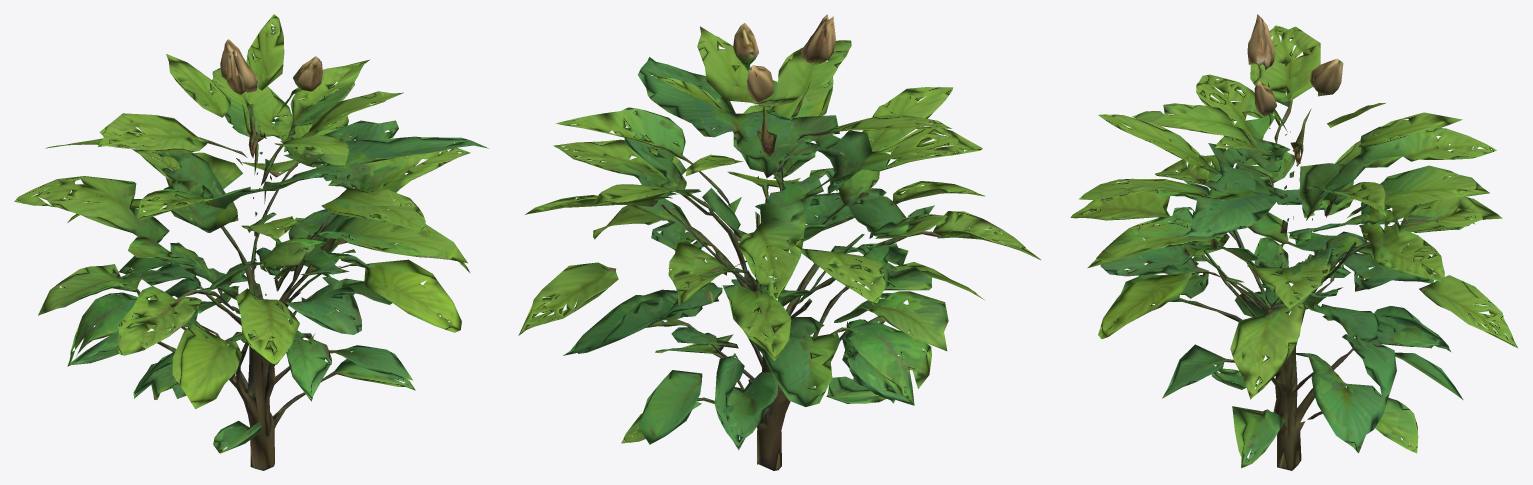
File: An_animated_yoruba_pl_0527073105_texture.glb
3 views of the same model, side by side, from view 1: azimuth 30°, elevation 25°; view 2: azimuth 150°, elevation 25°; view 3: azimuth 270°, elevation 25° (orthographic). The views are drawn at different scales.
Bounding box in the file's own units: 1.85 × 1.87 × 1.77.
1 material, 1 textured.
